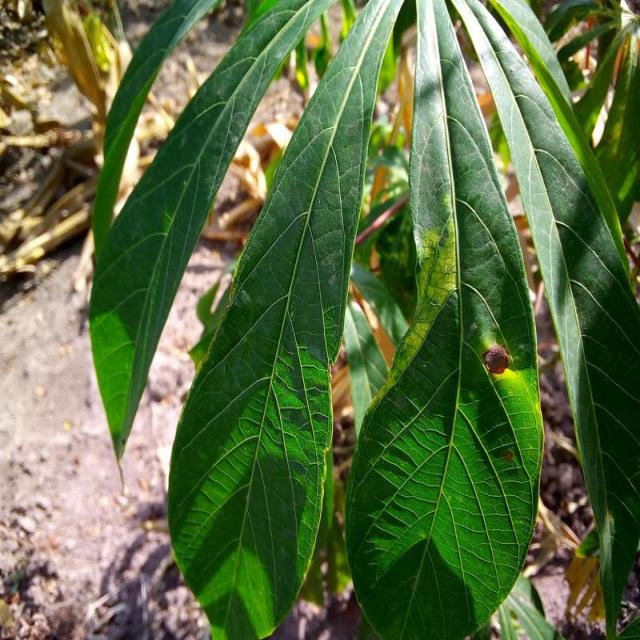cassava leaf: (165, 0, 403, 638), (342, 0, 545, 638), (87, 0, 335, 483), (457, 0, 639, 637)
